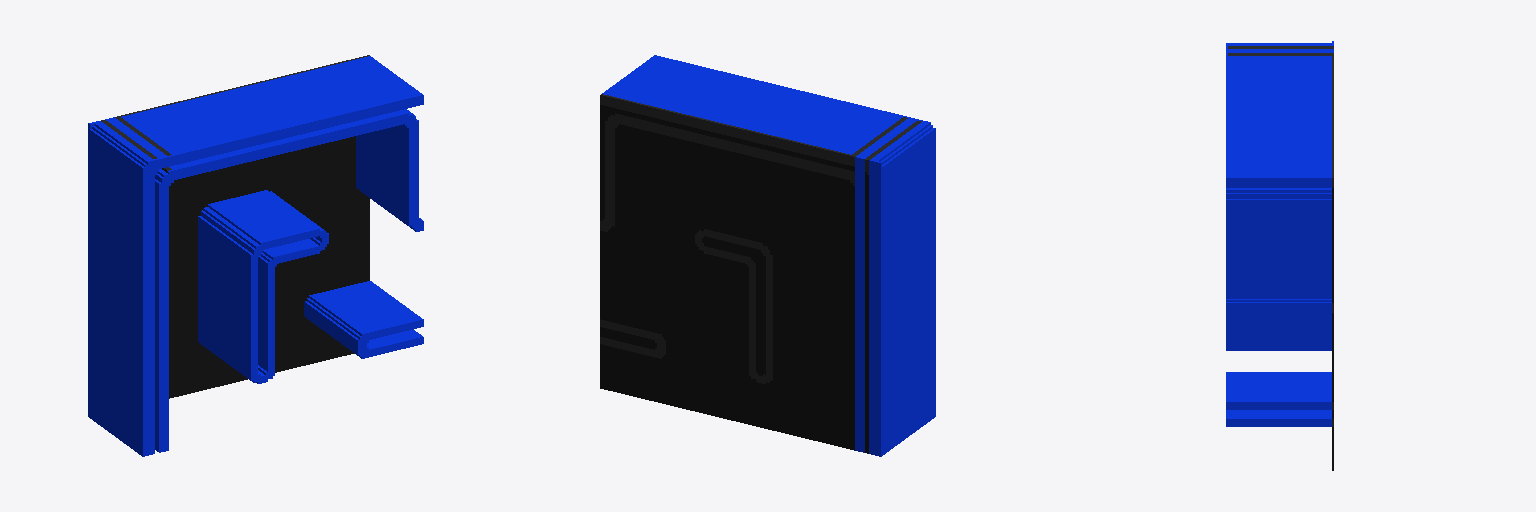
The picture shows the model from 3 angles: view 1: azimuth 30°, elevation 25°; view 2: azimuth 150°, elevation 25°; view 3: azimuth 270°, elevation 25°; orthographic projection.
Parts seen in each view (by area): view 1: object 1; view 2: object 1; view 3: object 1.
Boxes of the visible parts, <box> form: object 1: <box>88,55,423,456</box>; object 1: <box>600,55,935,456</box>; object 1: <box>1226,41,1333,470</box>.
Size of the model in its own units: 11.9 by 11.9 by 4.
Materials: 1 (1 with a texture image).